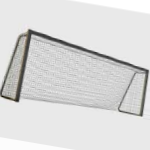goals: (1, 26, 150, 119)
